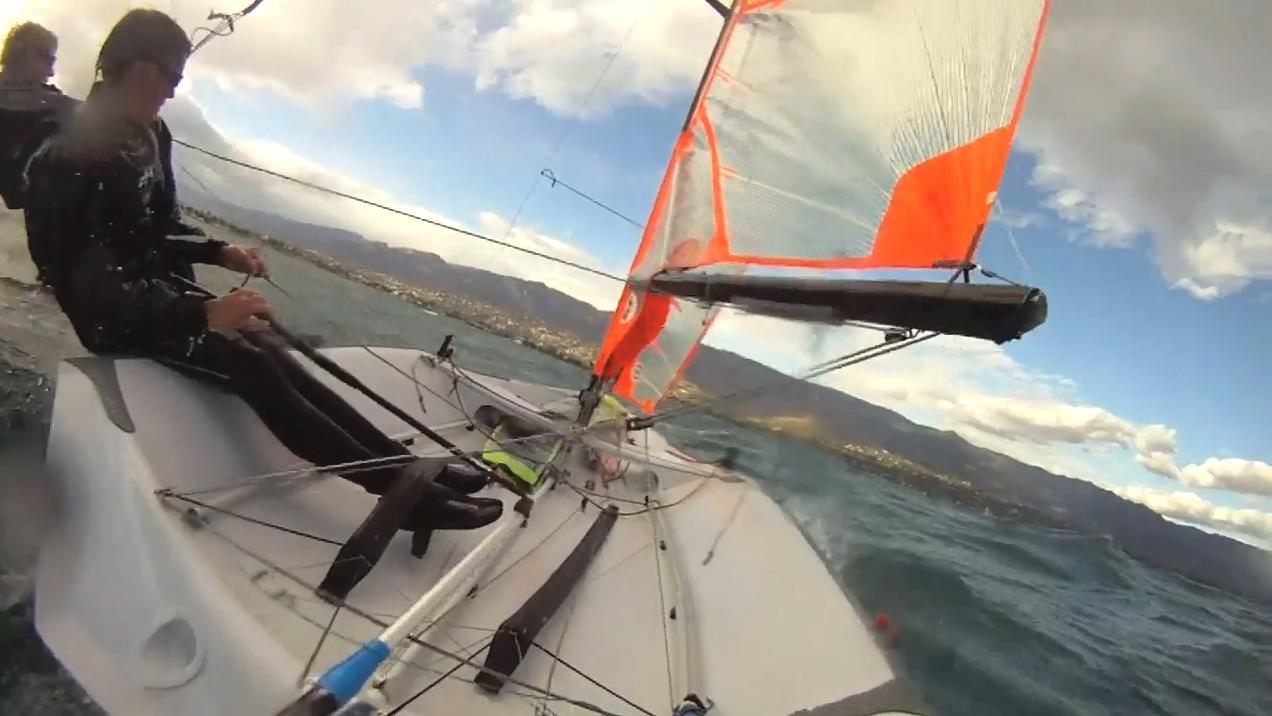boat: (34, 0, 1057, 716)
land: (681, 347, 1272, 607), (180, 192, 609, 365)
person: (20, 10, 504, 532), (0, 22, 83, 210)
sea: (655, 415, 1272, 716), (179, 210, 590, 391), (0, 203, 105, 716)
sky: (704, 0, 1272, 552), (0, 0, 722, 310)
